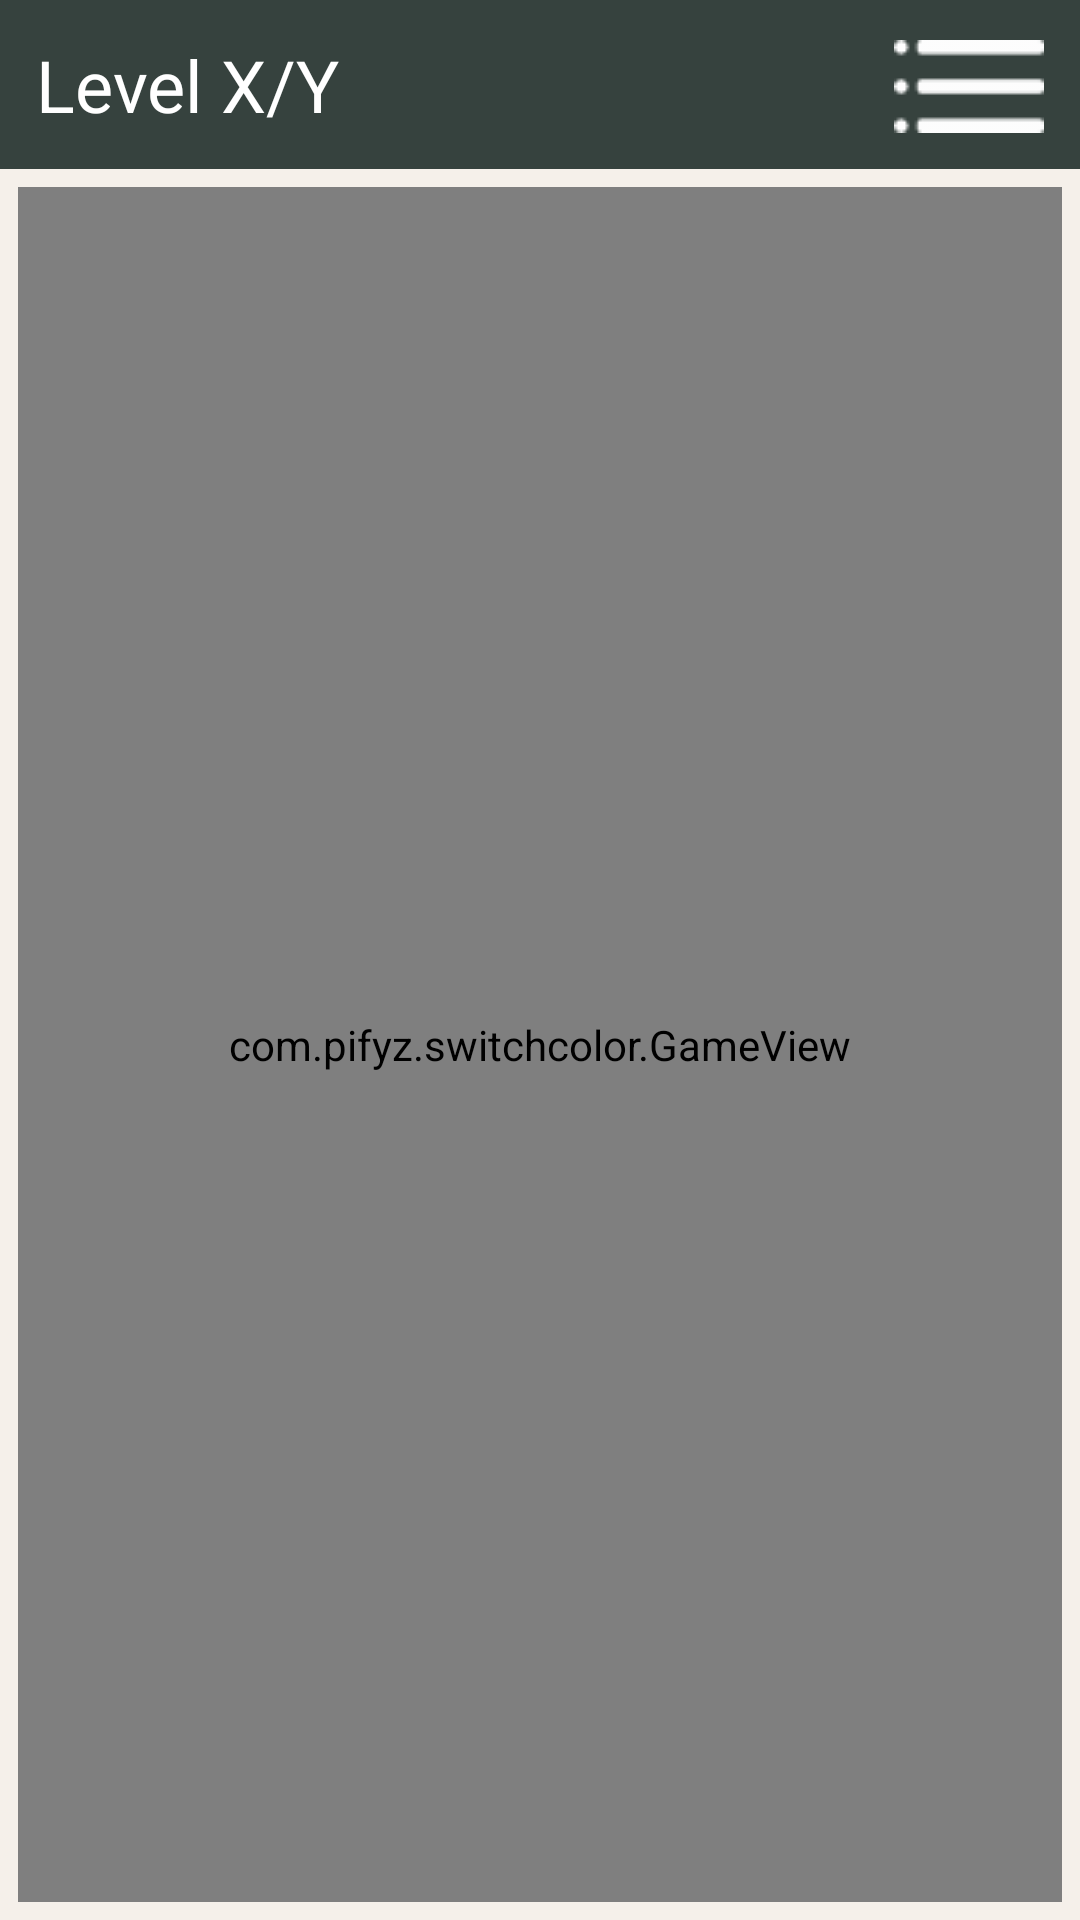

Named icons in this screenshot (1080×1920) and their centers, point (x, y):
Menu: point (969, 86)
